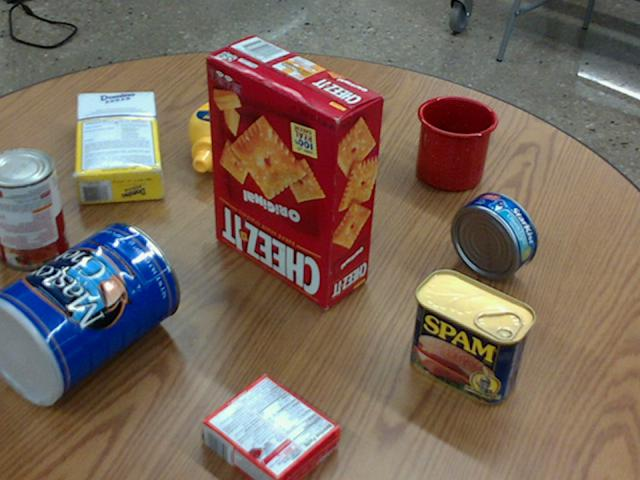cracker_box: (206, 35, 383, 307)
gelatin_box: (202, 373, 340, 479)
large_marker: (350, 104, 368, 163)
master_chef_can: (0, 221, 179, 405)
mug: (413, 95, 496, 191)
mustard_bottle: (187, 70, 296, 171)
potted_meat_can: (409, 269, 536, 403)
sugar_box: (73, 87, 163, 205)
tomato_soup_can: (0, 147, 68, 270)
tuna_fish_can: (450, 191, 536, 279)
